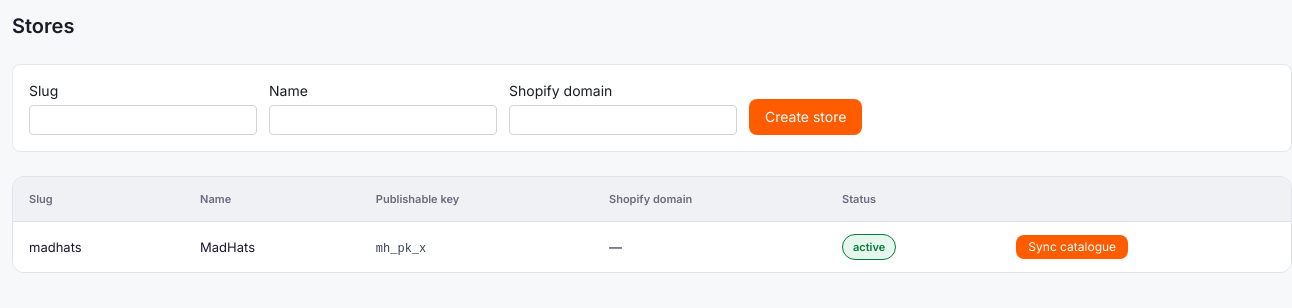
Test case: StoresView › queues a sync and says so
Expected: the text "madhats" is shown, x1=13 y1=222 x2=184 y2=272
What coordinates should you click on to do the following:
click the button "Sync catalogue"
I would click on:
 (1072, 247)
Its box is x1=1016 y1=235 x2=1128 y2=259.
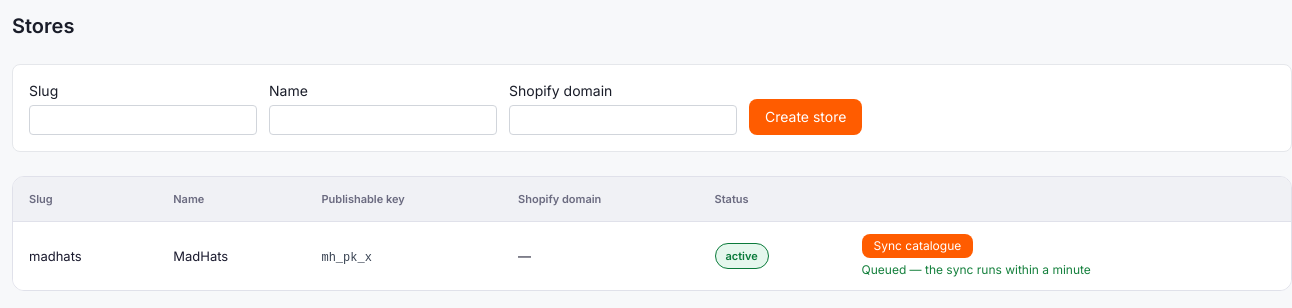
Expected: the text "Queued — the sync runs within a minute" is shown, x1=862 y1=262 x2=1091 y2=278
